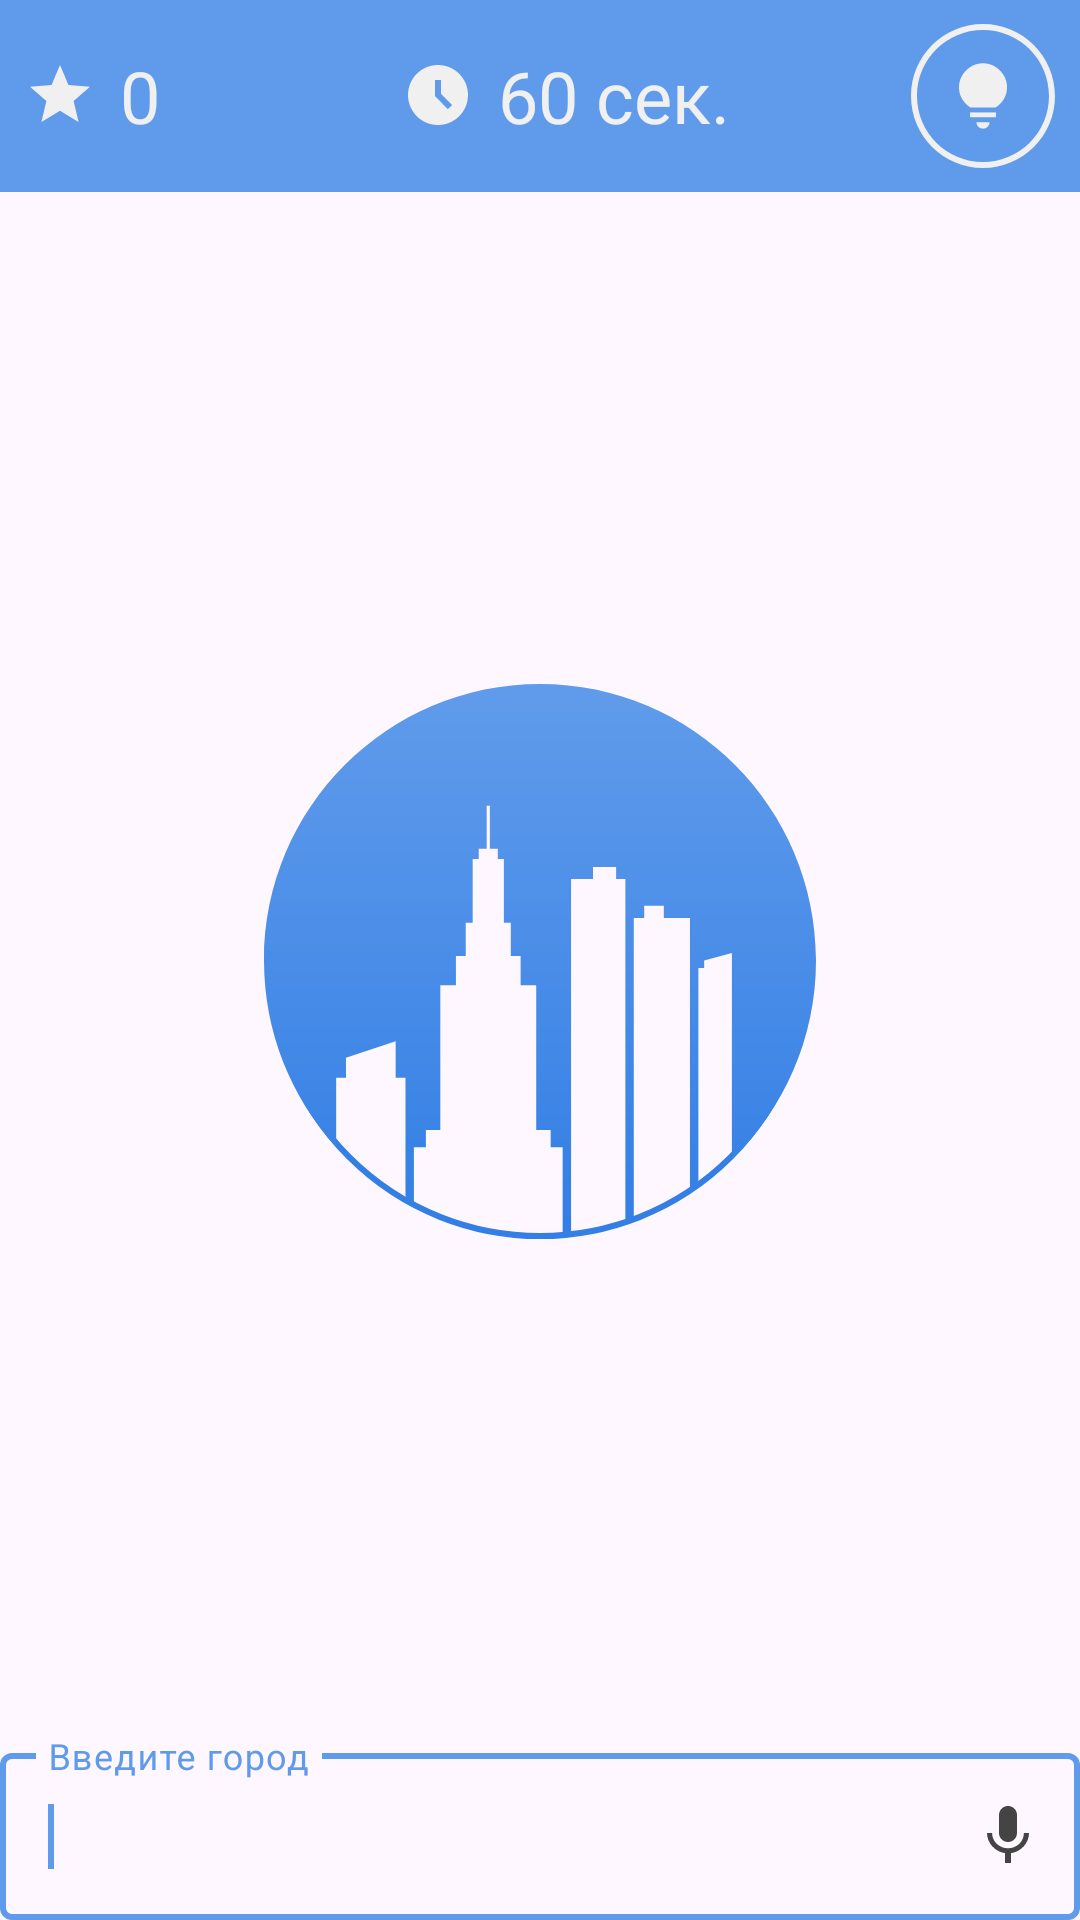

Locate icon controls on the screen. Image size 1080 × 1920, boxes as [x1,y1,x2,y2].
Получить подсказку: [911,24,1055,168]
